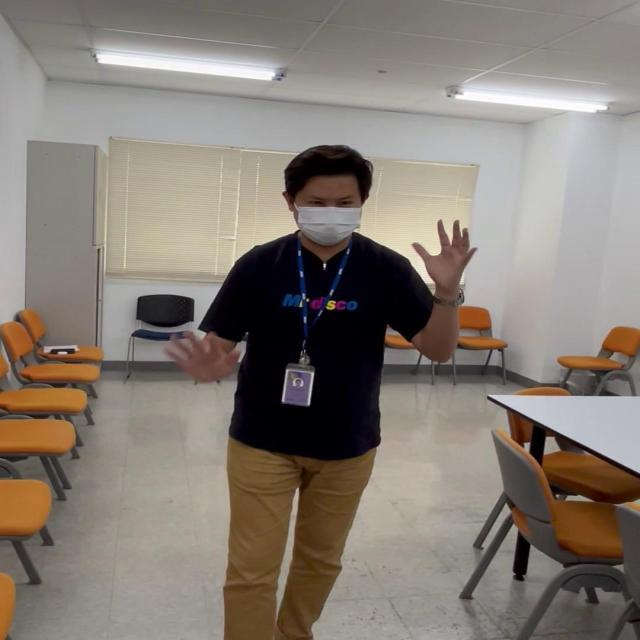bare_hand: (410, 214, 479, 298), (163, 323, 243, 385)
